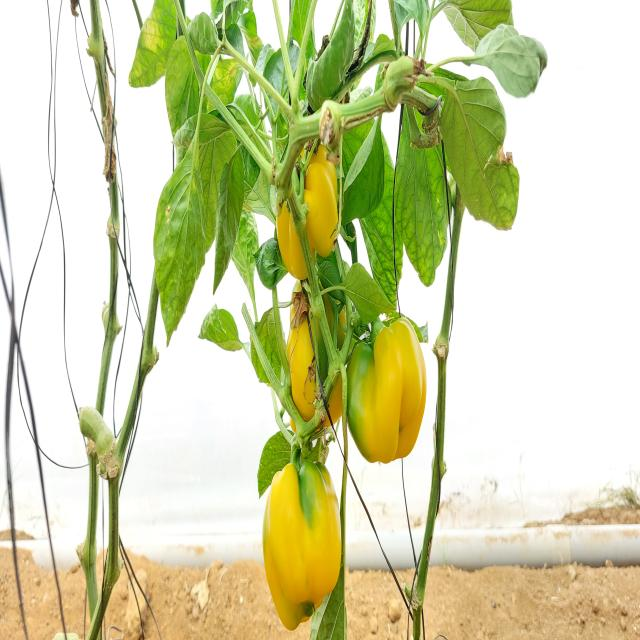Yellow-Ready-to-Harvest: (262, 454, 342, 630), (364, 315, 428, 464), (284, 286, 346, 436), (273, 156, 342, 272)
